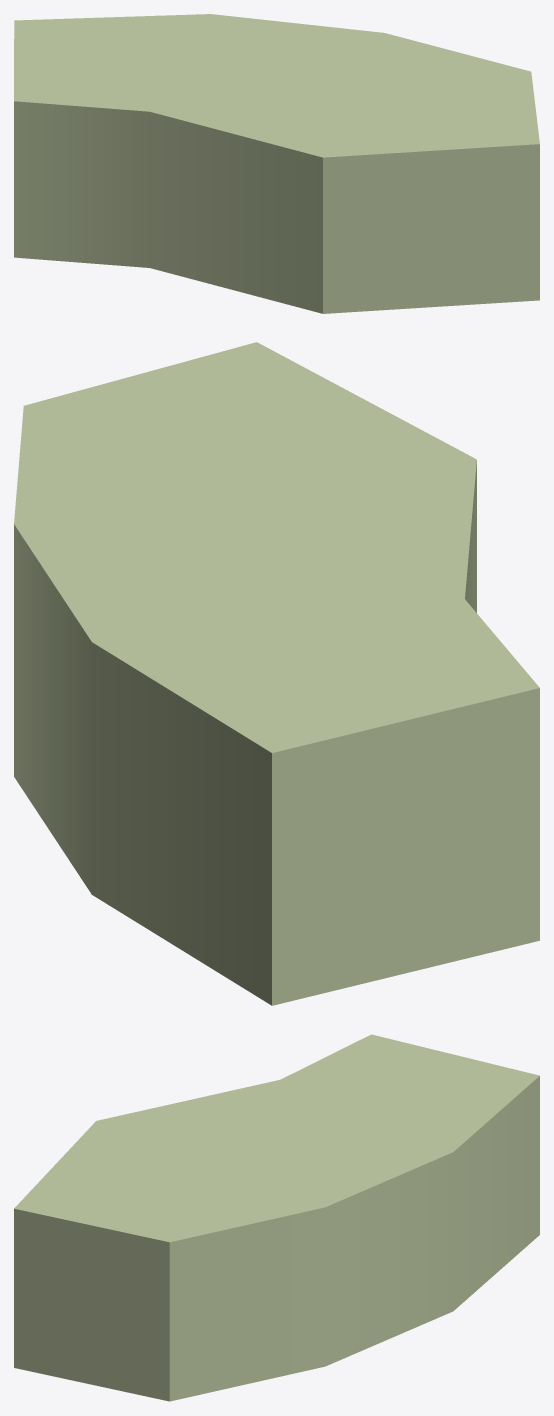
Rendered from hsinchu.glb.
3 renders of one model, top to bottom at view 1: azimuth 30°, elevation 25°; view 2: azimuth 150°, elevation 25°; view 3: azimuth 270°, elevation 25°, orthographic. The views are drawn at different scales.
Visible parts, largest first — view 1: map_geo Hsinchu_geo; view 2: map_geo Hsinchu_geo; view 3: map_geo Hsinchu_geo.
Part boxes in pixels (x1,y1,x2,y2): map_geo Hsinchu_geo: (14,14,539,313); map_geo Hsinchu_geo: (14,342,539,1005); map_geo Hsinchu_geo: (14,1034,539,1401).
Size of the model in its own units: 0.7788 by 0.2781 by 0.8325.
Materials: 1 (1 with a texture image).
